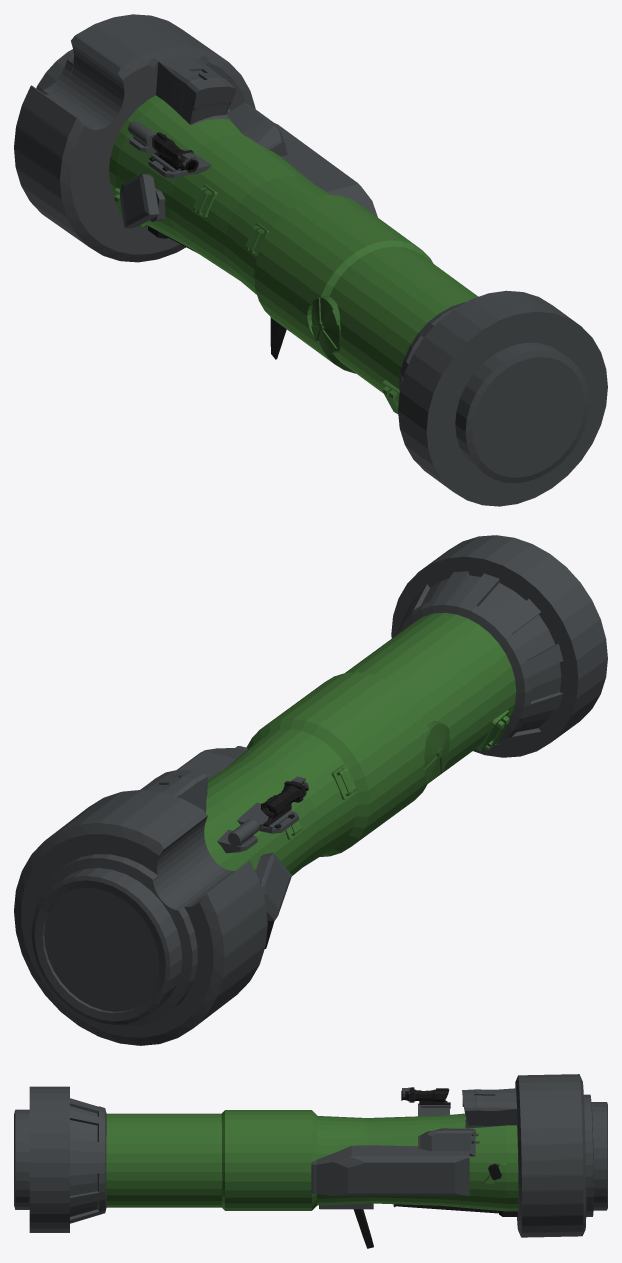
The picture shows the model from 3 angles, top to bottom: view 1: azimuth 30°, elevation 25°; view 2: azimuth 150°, elevation 25°; view 3: azimuth 270°, elevation 25°; orthographic projection. The views are drawn at different scales.
Parts seen in each view (by area): view 1: Cylinder.004, Cylinder, Cylinder.007, Cylinder.001, Cube.005, Cube.012, Cube.006, Cylinder.006, ACOG; view 2: Cylinder.007, Cylinder, Cylinder.004, Cylinder.005, Cylinder.001, Cylinder.003, Cube.012, ACOG, Cylinder.006, Cube.005; view 3: Cylinder, Cylinder.007, Cylinder.004, Cylinder.001, Cube.005, Cylinder.005, Cube.006, Cylinder.003, ACOG, Cube.003, Cube.015, Cube.002.
Boxes of the visible parts, x1,y1,x2,y2 form: Cylinder.004: (398, 290, 607, 506); Cylinder: (109, 95, 478, 395); Cylinder.007: (14, 14, 255, 262); Cylinder.001: (254, 195, 433, 373); Cube.005: (274, 123, 377, 217); Cube.012: (120, 174, 159, 228); Cube.006: (227, 102, 287, 156); Cylinder.006: (311, 296, 340, 353); ACOG: (149, 132, 198, 172); Cylinder.007: (14, 770, 267, 1045); Cylinder: (204, 612, 516, 875); Cylinder.004: (391, 535, 607, 757); Cylinder.005: (31, 868, 182, 1024); Cylinder.001: (246, 672, 429, 856); Cylinder.003: (35, 854, 197, 1025); Cube.012: (255, 852, 291, 920); ACOG: (260, 776, 308, 831); Cylinder.006: (424, 721, 449, 780); Cube.005: (176, 746, 247, 779); Cylinder: (106, 1113, 518, 1211); Cylinder.007: (462, 1074, 586, 1237); Cylinder.004: (14, 1086, 106, 1232); Cylinder.001: (221, 1110, 317, 1210); Cube.005: (311, 1145, 469, 1195); Cylinder.005: (591, 1102, 607, 1210); Cube.006: (418, 1128, 475, 1156); Cylinder.003: (584, 1094, 593, 1216); ACOG: (401, 1087, 450, 1108); Cube.003: (319, 1203, 373, 1248); Cube.015: (393, 1204, 517, 1216); Cube.002: (418, 1103, 449, 1116).
Size of the model in its own units: 3.49 by 3.83 by 12.63.
